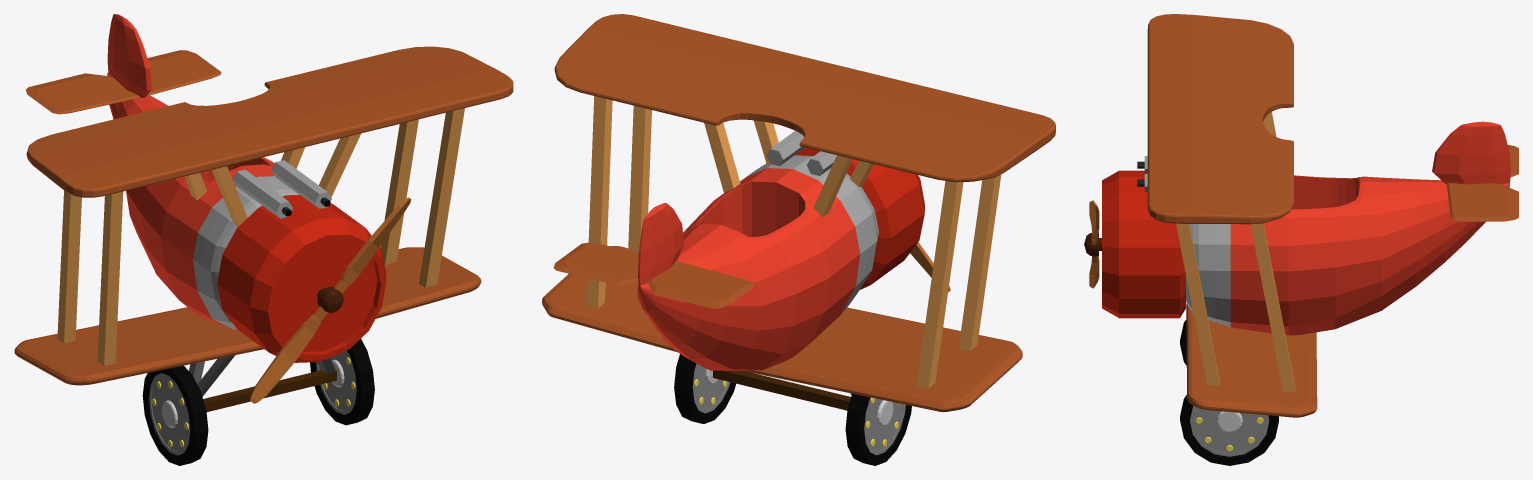
3 renders of one model, left to right at view 1: azimuth 30°, elevation 25°; view 2: azimuth 150°, elevation 25°; view 3: azimuth 270°, elevation 25°, orthographic. The views are drawn at different scales.
Parts seen in each view (by area): view 1: Avion; view 2: Avion; view 3: Avion.
Boxes of the visible parts, left/top/right/bottom form: Avion: left=14, top=14, right=513, bottom=465; Avion: left=542, top=14, right=1055, bottom=465; Avion: left=1084, top=14, right=1518, bottom=465.
Bounding box in the file's own units: 8.68 × 6.24 × 7.9.
Materials: 1 (1 with a texture image).
